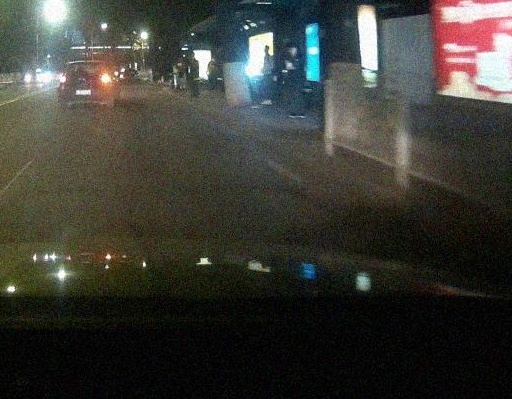L_light: (58, 75, 71, 82)
R_light: (94, 75, 110, 81)
T_light: (80, 62, 90, 65)
night-right: (57, 61, 114, 113)
